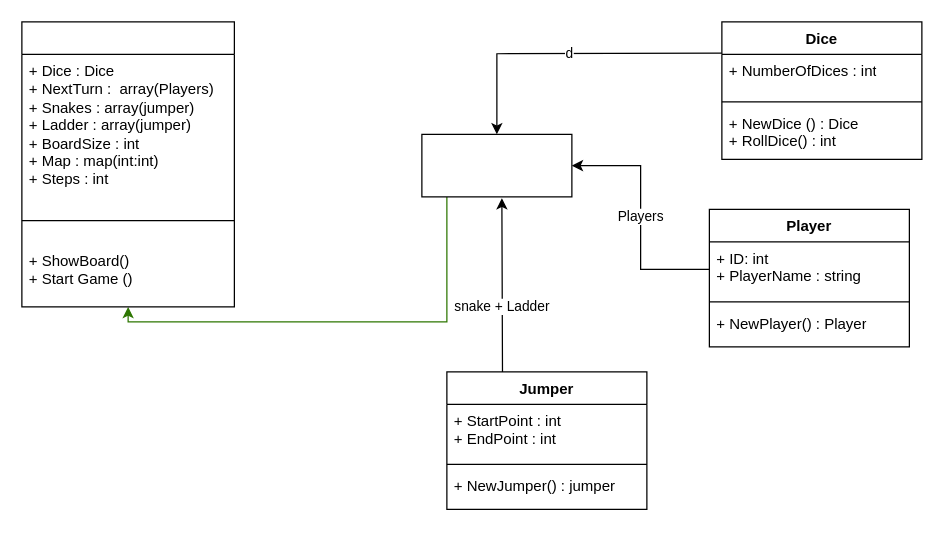
Image size: 944x535. Some labels were removed from this diagram. The shapes that lost their labels are listed below. From the top down, each one's box as (x1, y1, x2, y2) in pixels, then its label:
(21, 21, 234, 307): GameBoard
(421, 133, 572, 197): Main
